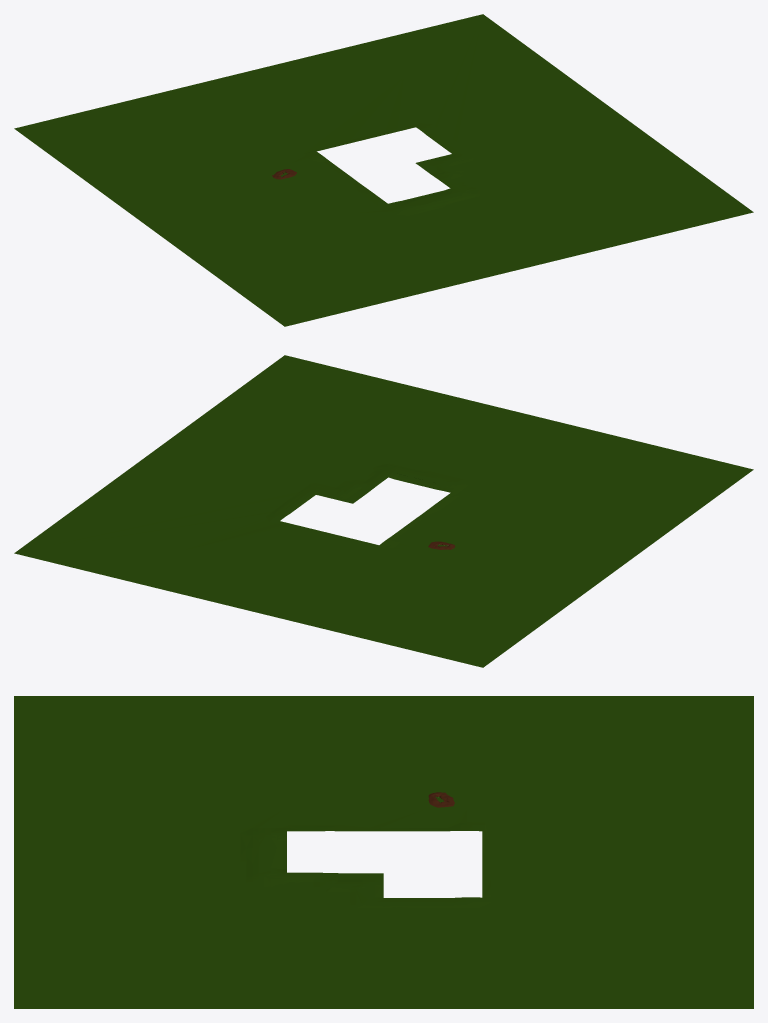
The model's file is Land.fbx.
3 renders of one model, top to bottom at view 1: azimuth 30°, elevation 25°; view 2: azimuth 150°, elevation 25°; view 3: azimuth 270°, elevation 25°, orthographic. The views are drawn at different scales.
Visible parts, largest first — view 1: Plane.005; view 2: Plane.005; view 3: Plane.005, CrackLandWCrack.
Part boxes in pixels (x1,y1,x2,y2): Plane.005: (14, 14, 753, 326); Plane.005: (14, 355, 753, 667); Plane.005: (14, 696, 753, 1008); CrackLandWCrack: (423, 789, 466, 809).
Bounding box in the file's own units: 3823 × 3823 × 170.
